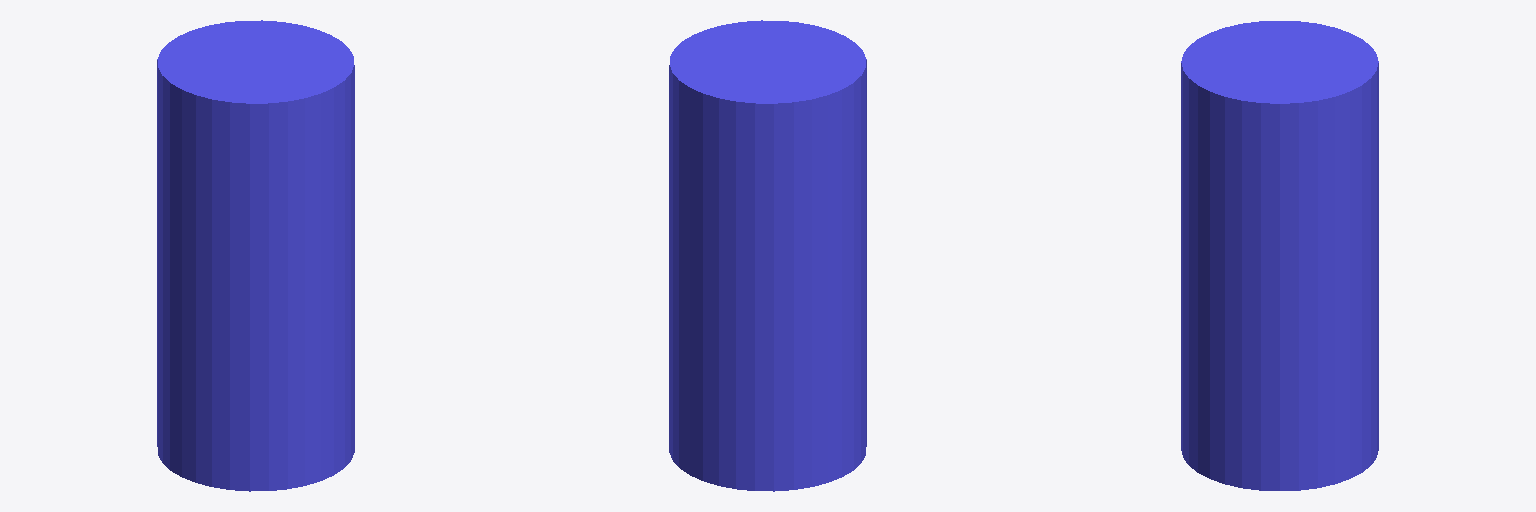
robot.urdf — cylinder:
<robot name="cylinder">
  <link name="cylinder_link">
    <inertial>
      <origin xyz="0 0 0" rpy="0 0 0"/>
      <mass value="0.1" />
      <inertia  ixx="0.00003375" ixy="0.0"  ixz="0.0"  iyy="0.00003375"  iyz="0.0"  izz="0.00003375" />
    </inertial>

    <visual>
      <origin xyz="0 0 0" rpy="0 0 0"/>
      <geometry>
        <cylinder length="0.065" radius="0.015"/>
      </geometry>
      <material name="purple">
        <color rgba="0.4 0.4 1.0 1.0"/>
      </material>
    </visual>

    <collision>
      <origin xyz="0 0 0" rpy="0 0 0"/>
      <geometry>
        <cylinder length="0.065" radius="0.015"/>
      </geometry>
    </collision>
  </link>
</robot>

--- Facts derived from the render (not from the file) ---
The picture shows the robot from 3 angles, left to right: view 1: azimuth 30°, elevation 25°; view 2: azimuth 150°, elevation 25°; view 3: azimuth 270°, elevation 25°; orthographic projection.
Model cylinder with 1 links and 0 joints (none), rooted at cylinder_link, posed every joint at zero.
Visible links, largest first — view 1: cylinder_link; view 2: cylinder_link; view 3: cylinder_link.
Boxes of the visible links, <box> form: cylinder_link: <box>157,20,354,491</box>; cylinder_link: <box>669,20,866,491</box>; cylinder_link: <box>1181,21,1378,490</box>.
Size in the robot's own frame: 0.03 by 0.03 by 0.065 metres.
Geometry: primitives only (box / cylinder / sphere), no mesh files.